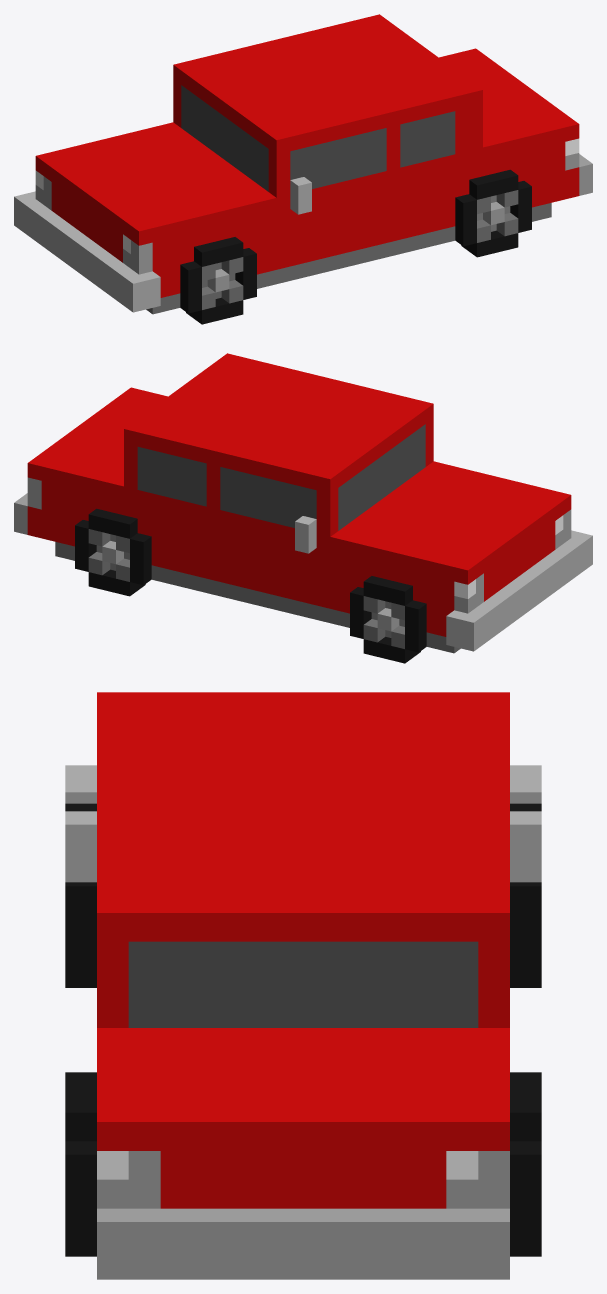
File: car_08.glb
The picture shows the model from 3 angles, top to bottom: view 1: azimuth 30°, elevation 25°; view 2: azimuth 150°, elevation 25°; view 3: azimuth 270°, elevation 25°; orthographic projection. The views are drawn at different scales.
Visible parts, largest first — view 1: ObjObject; view 2: ObjObject; view 3: ObjObject.
Part boxes in pixels (x1,y1,x2,y2): ObjObject: (14,14,592,324); ObjObject: (14,353,592,663); ObjObject: (65,692,541,1279).
Bounding box in the file's own units: 3.4 × 1.1 × 1.5.
Materials: 1 (1 with a texture image).
